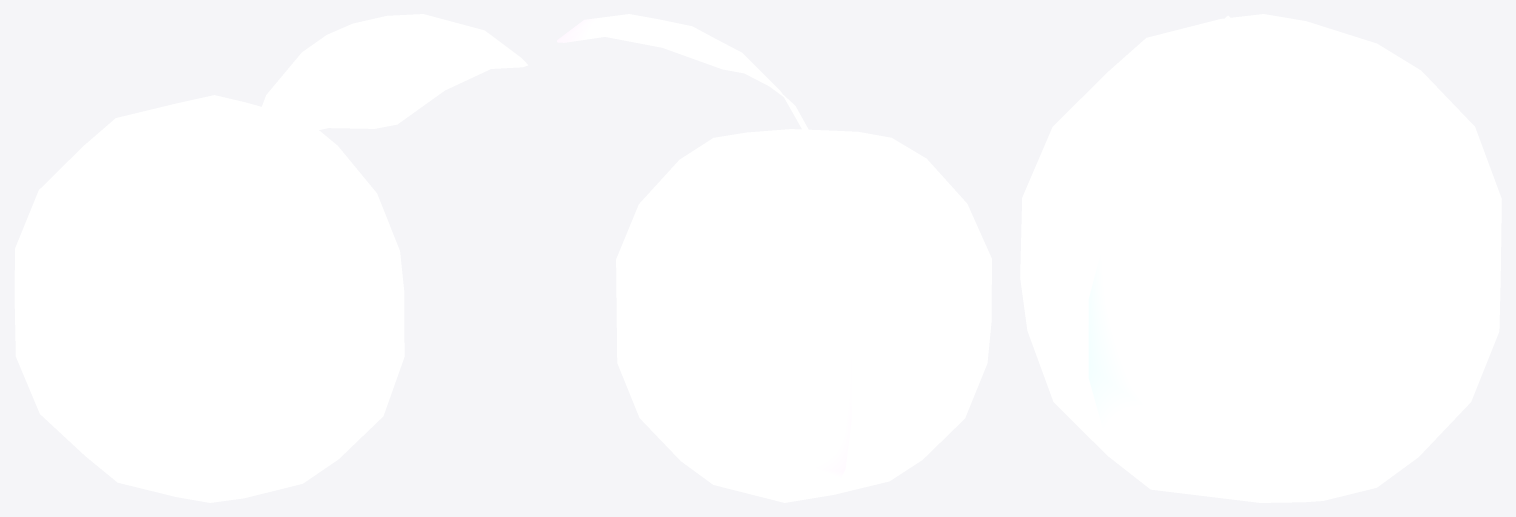
The picture shows the model from 3 angles, left to right: view 1: azimuth 30°, elevation 25°; view 2: azimuth 150°, elevation 25°; view 3: azimuth 270°, elevation 25°; orthographic projection. The views are drawn at different scales.
Parts seen in each view (by area): view 1: SM_PeaceLily_01_LOD0; view 2: SM_PeaceLily_01_LOD0; view 3: SM_PeaceLily_01_LOD0.
Boxes of the visible parts, x1,y1,x2,y2 form: SM_PeaceLily_01_LOD0: (14,14,527,502); SM_PeaceLily_01_LOD0: (557,14,991,502); SM_PeaceLily_01_LOD0: (1020,14,1501,502).
Bounding box in the file's own units: 0.2385 × 0.2187 × 0.1779.
